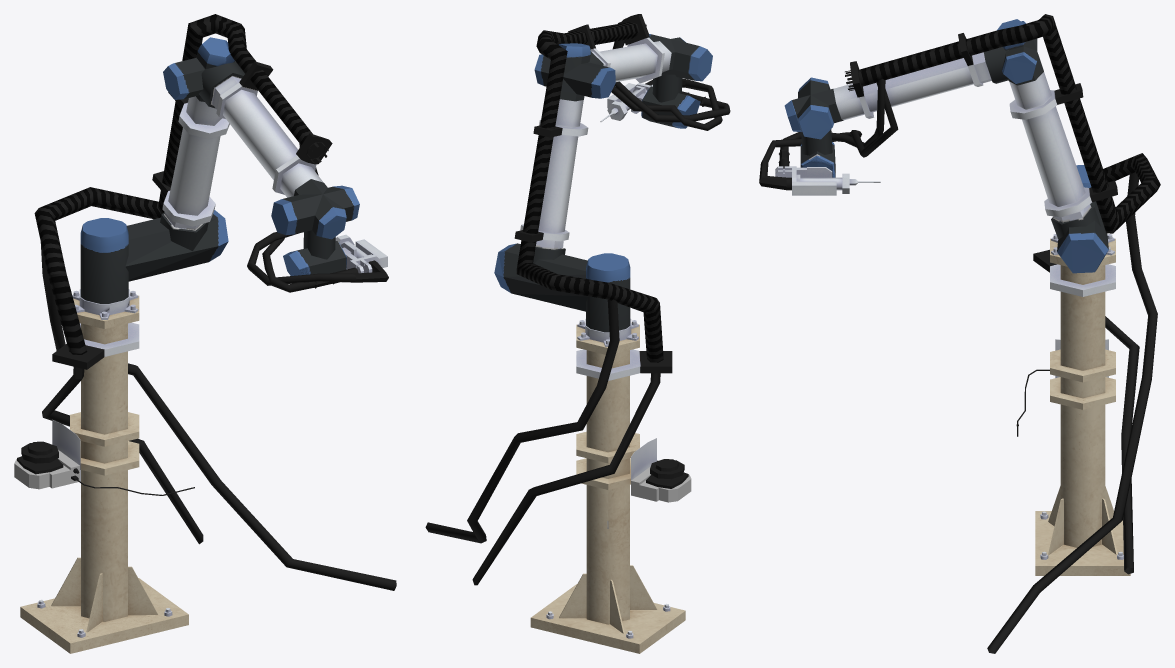
File: caozuo03.FBX
3 views of the same model, side by side, from view 1: azimuth 30°, elevation 25°; view 2: azimuth 150°, elevation 25°; view 3: azimuth 270°, elevation 25° (orthographic). The views are drawn at different scales.
Visible parts, largest first — view 1: YF_Model_caozuo4; view 2: YF_Model_caozuo4; view 3: YF_Model_caozuo4.
Part boxes in pixels (box(x1,y1,x2,y2)): YF_Model_caozuo4: box(14, 14, 396, 653); YF_Model_caozuo4: box(425, 14, 730, 653); YF_Model_caozuo4: box(759, 14, 1160, 653).
Bounding box in the file's own units: 133 × 233 × 149.
